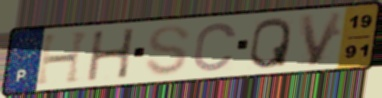C: (191, 21, 240, 73)
H: (33, 29, 93, 87), (86, 26, 138, 83)
Q: (247, 15, 294, 71)
S: (143, 23, 193, 78)
V: (296, 9, 347, 68)
